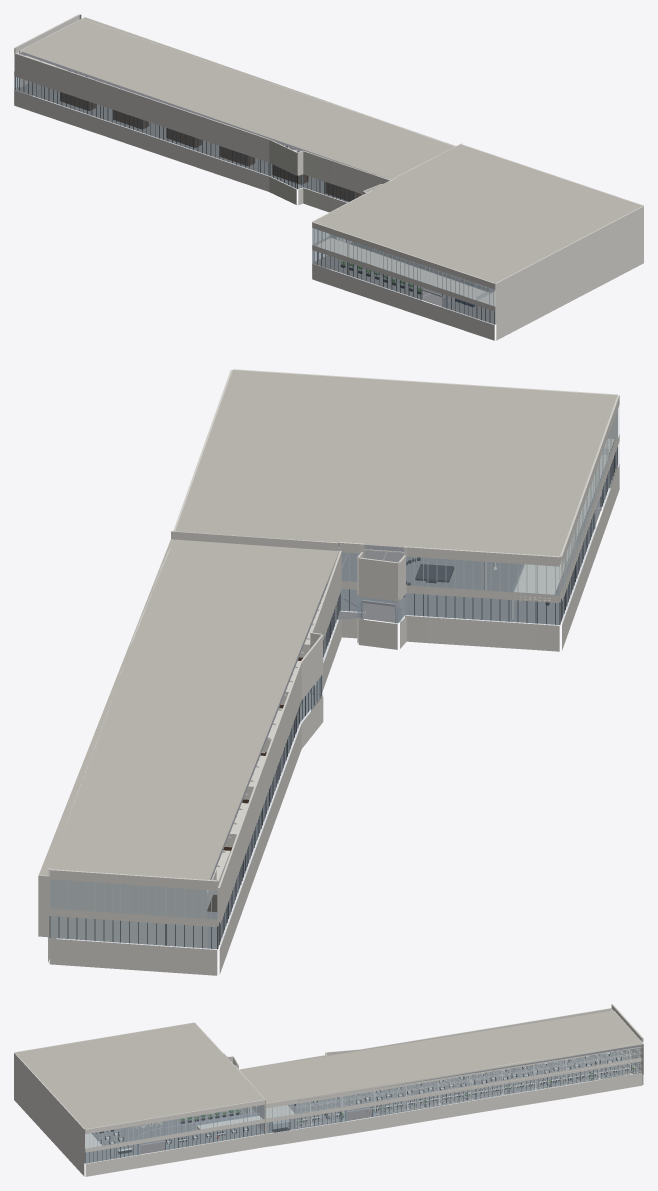
Rendered from NovaHallWorld.fbx.
The picture shows the model from 3 angles, top to bottom: view 1: azimuth 30°, elevation 25°; view 2: azimuth 150°, elevation 25°; view 3: azimuth 270°, elevation 25°; orthographic projection. The views are drawn at different scales.
Parts seen in each view (by area): view 1: Hall_Roof, Hall_Shell, Hall_Structure; view 2: Hall_Roof, Hall_Shell, Hall_Structure; view 3: Hall_Roof, Hall_Shell, Hall_Furniture, Hall_Structure.
Boxes of the visible parts, x1,y1,x2,y2 form: Hall_Roof: (20,17,642,283); Hall_Shell: (14,14,643,340); Hall_Structure: (19,17,495,306); Hall_Roof: (39,370,617,895); Hall_Shell: (48,369,619,975); Hall_Structure: (38,439,614,948); Hall_Roof: (15,1010,642,1129); Hall_Shell: (14,1004,643,1176); Hall_Furniture: (92,1051,634,1154); Hall_Structure: (85,1011,643,1153).
Bounding box in the file's own units: 105 × 18.3 × 221.
